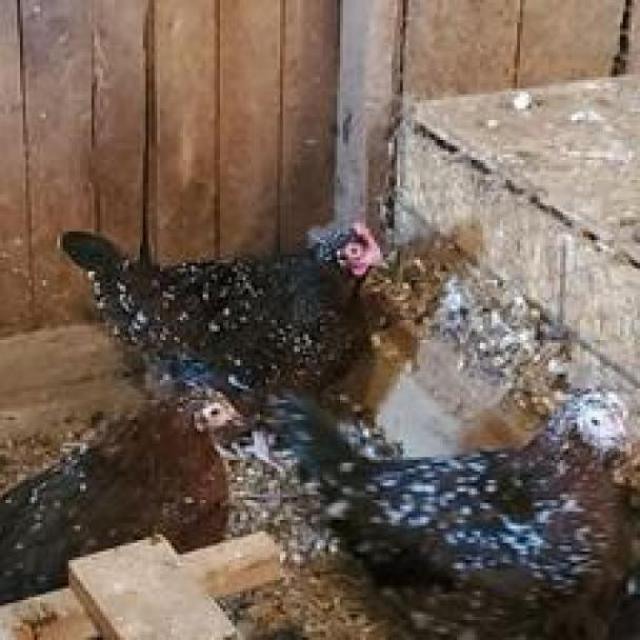Chicken: (23, 222, 418, 391)
